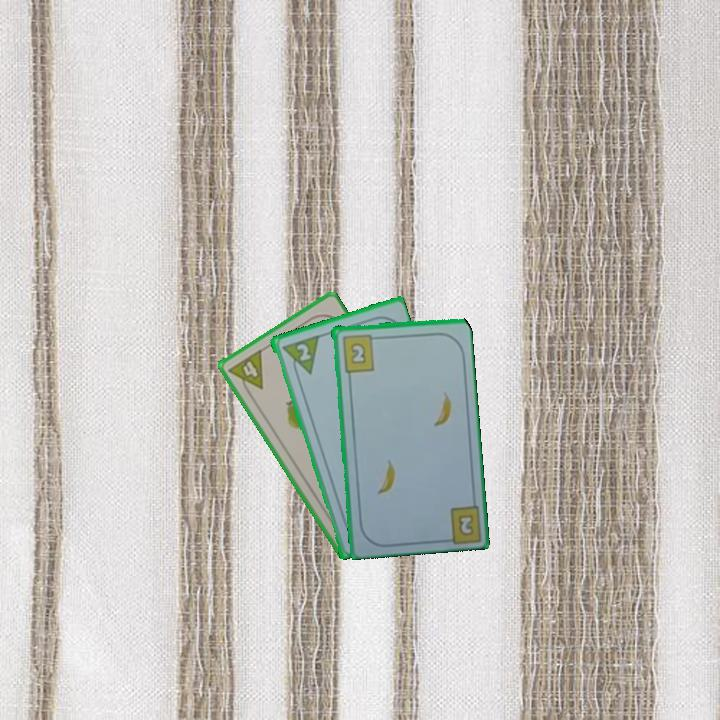2b: (439, 499, 483, 544), (339, 331, 381, 374)
2p: (278, 332, 321, 380)
4p: (225, 346, 266, 399)
